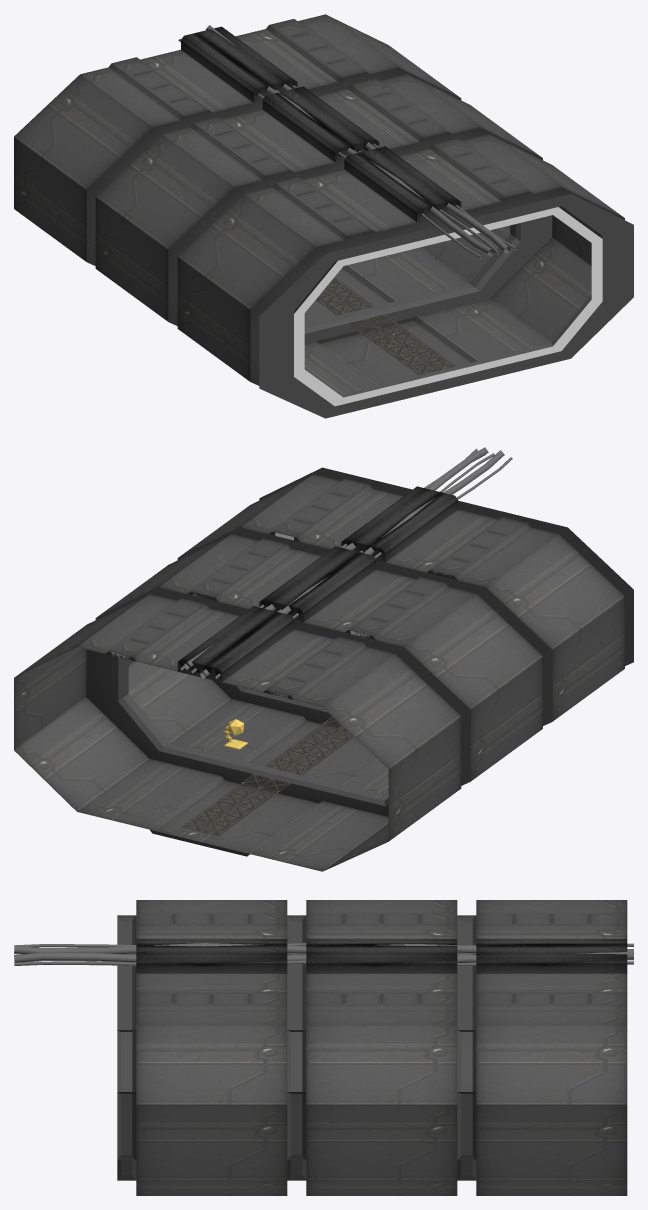
File: shop1.fbx
3 views of the same model, one above another, from view 1: azimuth 30°, elevation 25°; view 2: azimuth 150°, elevation 25°; view 3: azimuth 270°, elevation 25° (orthographic). The views are drawn at different scales.
Parts seen in each view (by area): view 1: metal, fl1.001, bottomroad, BezierCurve.003, BezierCurve.000; view 2: metal, bottomroad, BezierCurve.003, BezierCurve.000; view 3: metal, BezierCurve.003, BezierCurve.000, BezierCurve.001, BezierCurve.004.
Boxes of the visible parts, bbox=[...] form: metal: bbox=[14, 14, 633, 418]; fl1.001: bbox=[294, 207, 602, 406]; bottomroad: bbox=[312, 273, 455, 375]; BezierCurve.003: bbox=[265, 86, 494, 256]; BezierCurve.000: bbox=[205, 25, 510, 253]; metal: bbox=[14, 467, 633, 871]; bottomroad: bbox=[181, 716, 353, 836]; BezierCurve.003: bbox=[199, 450, 504, 678]; BezierCurve.000: bbox=[183, 447, 488, 669]; metal: bbox=[117, 900, 627, 1195]; BezierCurve.003: bbox=[14, 943, 633, 954]; BezierCurve.000: bbox=[14, 951, 633, 962]; BezierCurve.001: bbox=[14, 960, 633, 966]; BezierCurve.004: bbox=[14, 943, 633, 947].
Size of the model in its own units: 11900 by 5569 by 16408.
5 materials, 3 textured.
